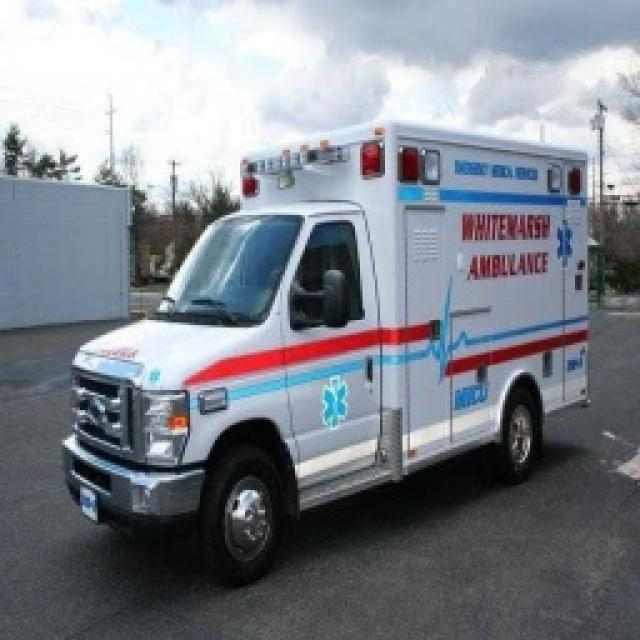emergency-vehicle: (40, 70, 617, 565)
